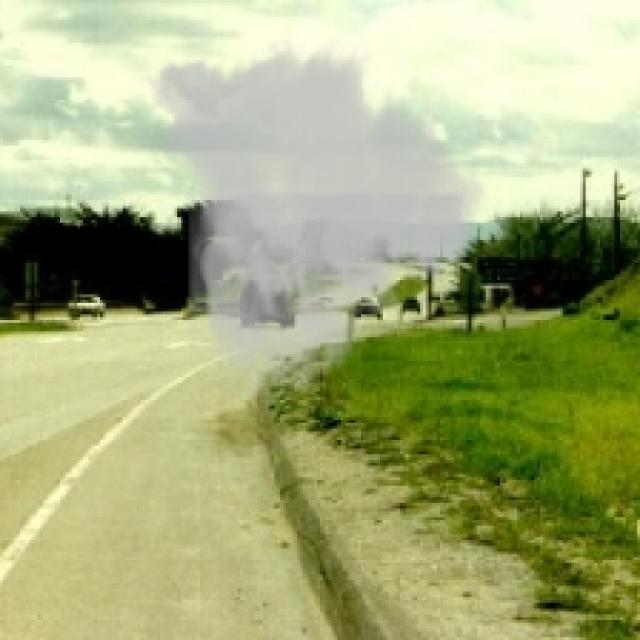smoke: (134, 34, 497, 397)
